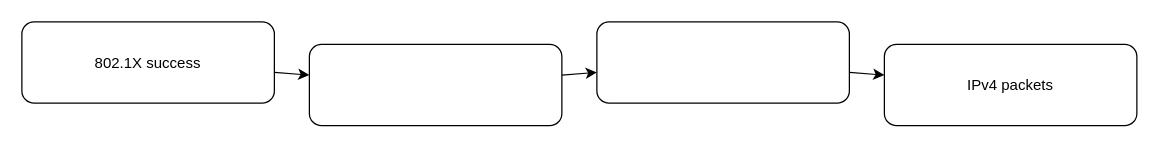
Some shapes in this 1159 by 148 pixel diagram are drawn without their labels. Each missing label, with the centre of its shape:
"Hardware DACL" belongs at [722,62].
"RADIUS Filter-Id" belongs at [435,84].
